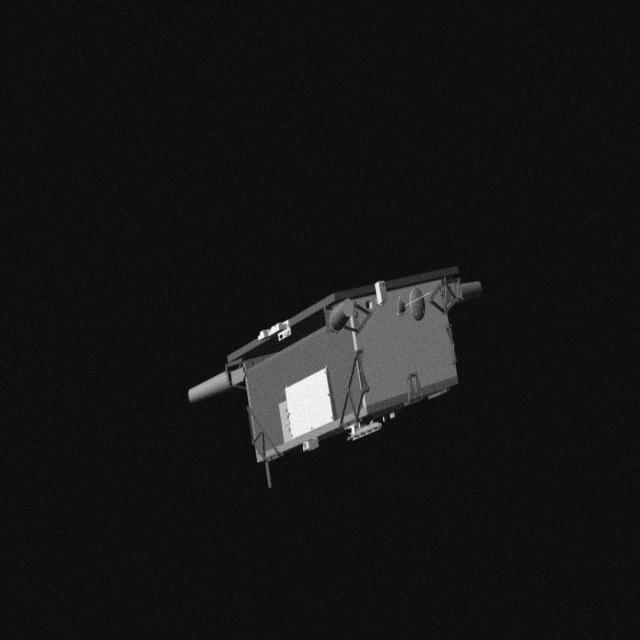medium_debris: (178, 246, 480, 498)
